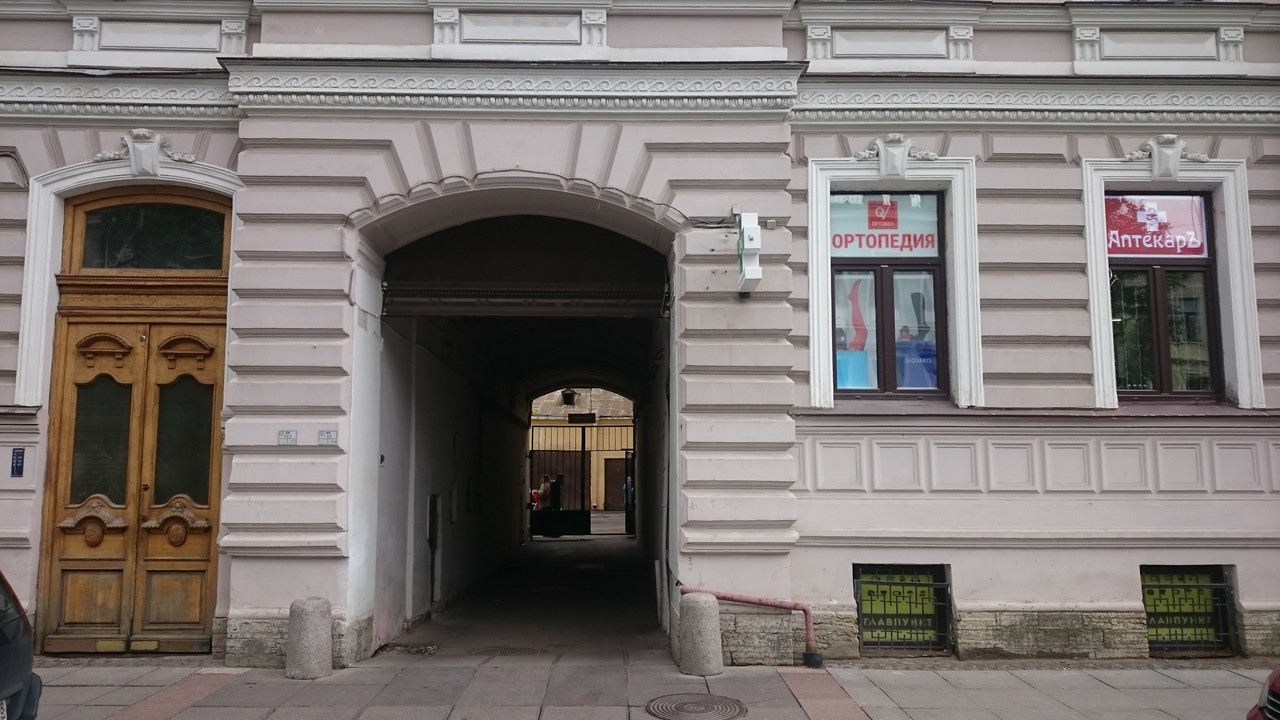arch: (351, 181, 682, 661)
cantilever: (730, 206, 767, 296)
door: (37, 319, 225, 654)
win_ad: (831, 193, 936, 254)
window: (1102, 191, 1230, 403), (828, 188, 947, 402), (59, 184, 229, 274)
